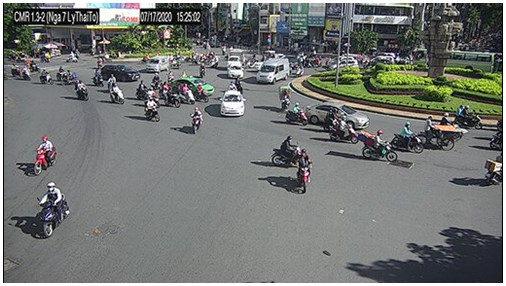xe_hoi: (219, 90, 245, 118), (171, 79, 213, 96), (100, 64, 139, 81), (327, 59, 358, 70), (226, 63, 243, 78)
xe_khach: (256, 57, 289, 84), (145, 56, 170, 71)
xe_may: (37, 182, 70, 239), (357, 130, 397, 162), (272, 135, 306, 168), (391, 123, 423, 155), (35, 135, 57, 177), (295, 148, 313, 193), (330, 116, 357, 144), (454, 105, 484, 130), (440, 111, 463, 136), (284, 102, 308, 125), (323, 107, 343, 133), (163, 86, 181, 109), (144, 98, 160, 122), (190, 106, 203, 135), (192, 82, 209, 103), (109, 82, 124, 105), (145, 87, 160, 109), (75, 79, 89, 102), (279, 84, 291, 110), (180, 84, 195, 104), (136, 81, 153, 98), (39, 68, 54, 85), (62, 70, 78, 84), (91, 70, 103, 87), (11, 62, 23, 78), (106, 73, 115, 93), (56, 66, 68, 80), (236, 77, 245, 95), (28, 60, 40, 73), (21, 66, 30, 81), (153, 72, 161, 86), (295, 64, 303, 78), (166, 70, 174, 82), (199, 63, 205, 79), (228, 81, 236, 91)
xe_tai: (228, 51, 244, 65)
xe_xich_lo: (418, 115, 463, 152)
